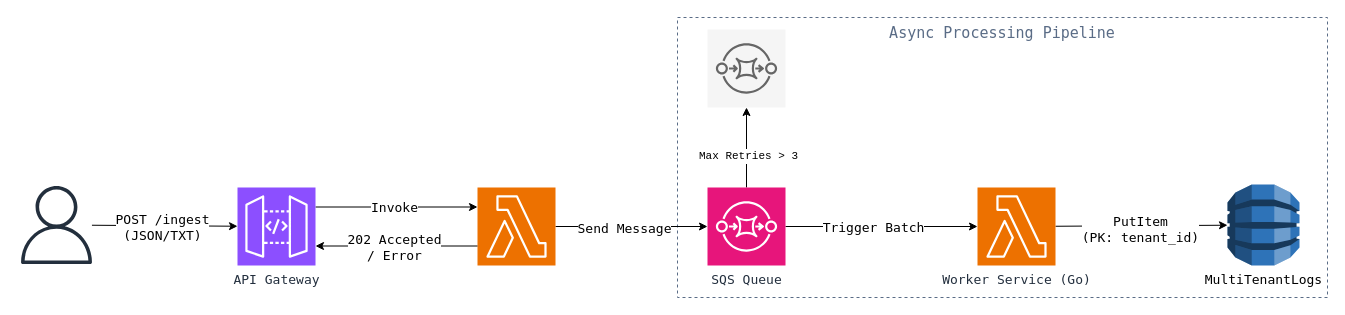
Some shapes in this 1345 by 315 pixel diagram are drawn without their labels. Here are the shapes that lost their labels. From the top down, the centre of each, then its label:
the point at 746,68: DLQ
the point at 516,226: Ingest Service (Go)
